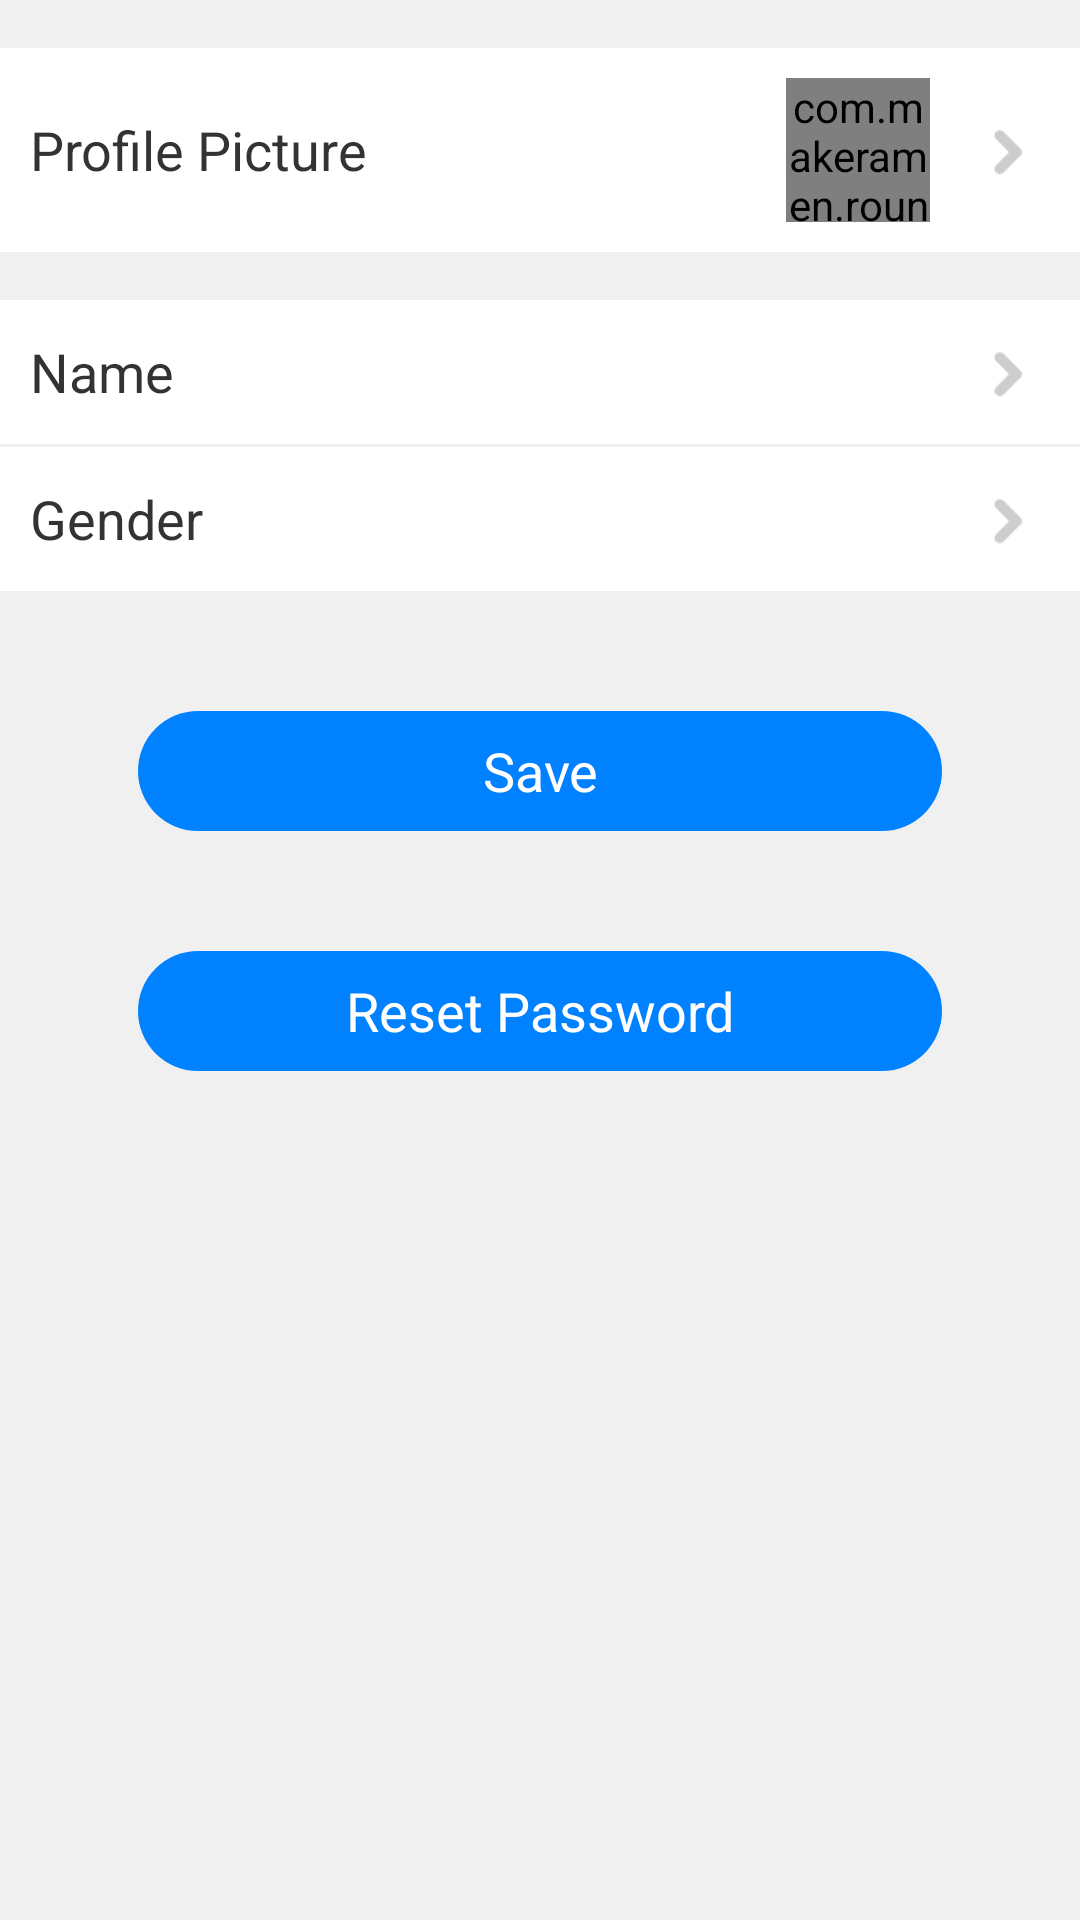

Where icons sit on this 1080 x 1920 app screen, as (x1, y1, x2, y2):
right: (995, 130, 1022, 174), (995, 352, 1022, 396), (995, 499, 1022, 543)
